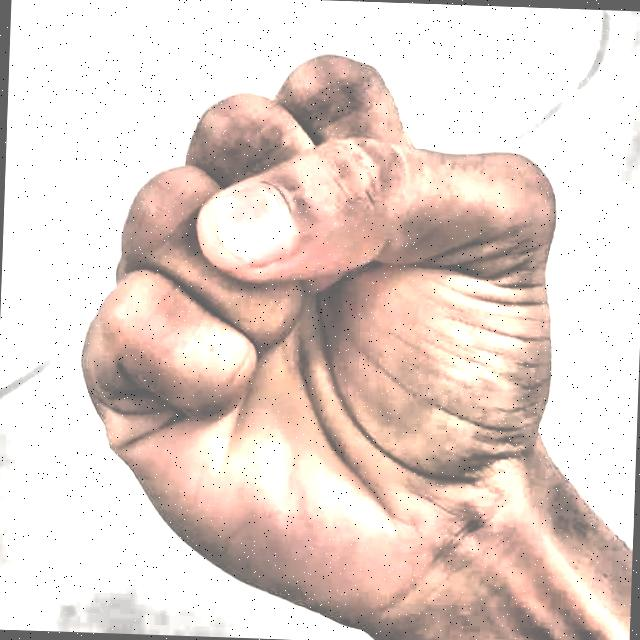Sha: (31, 19, 585, 640)
